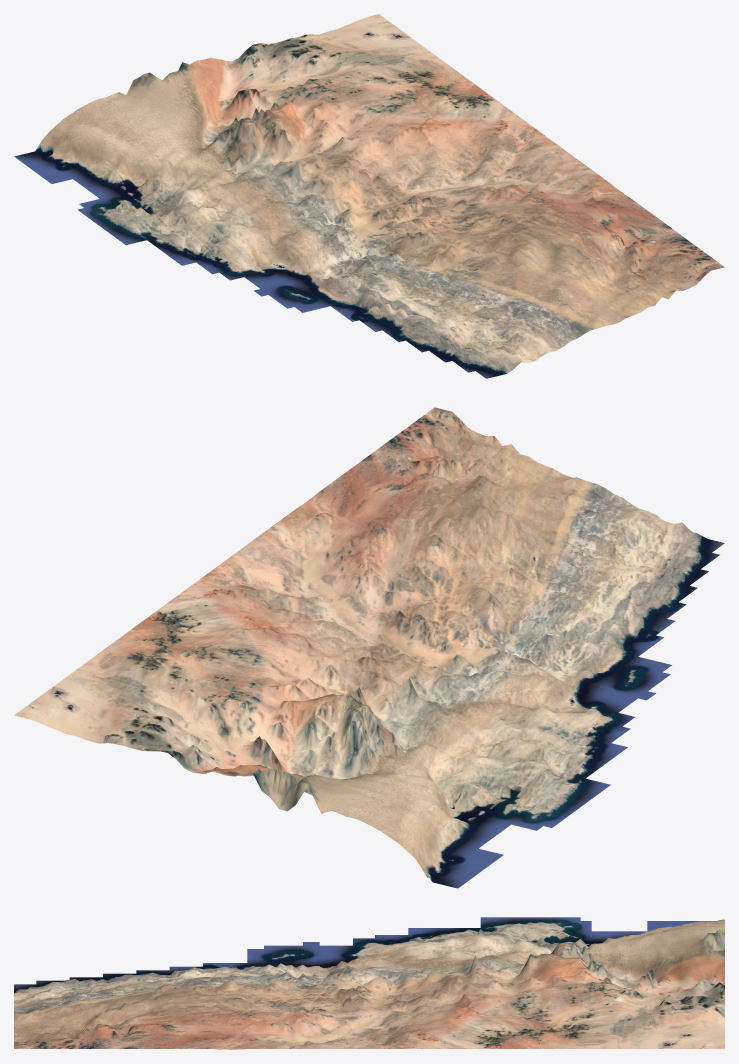
Rendered from ocean_mountain.glb.
The picture shows the model from 3 angles, top to bottom: view 1: azimuth 30°, elevation 25°; view 2: azimuth 150°, elevation 25°; view 3: azimuth 270°, elevation 25°; orthographic projection. The views are drawn at different scales.
Parts seen in each view (by area): view 1: EXPORT_GOOGLE_SAT_WM; view 2: EXPORT_GOOGLE_SAT_WM; view 3: EXPORT_GOOGLE_SAT_WM.
Boxes of the visible parts, left/top/right/bottom form: EXPORT_GOOGLE_SAT_WM: left=14, top=14, right=724, bottom=378; EXPORT_GOOGLE_SAT_WM: left=14, top=407, right=724, bottom=888; EXPORT_GOOGLE_SAT_WM: left=14, top=917, right=724, bottom=1049.
Bounding box in the file's own units: 11848 × 1643 × 19077.
1 material, 1 textured.
